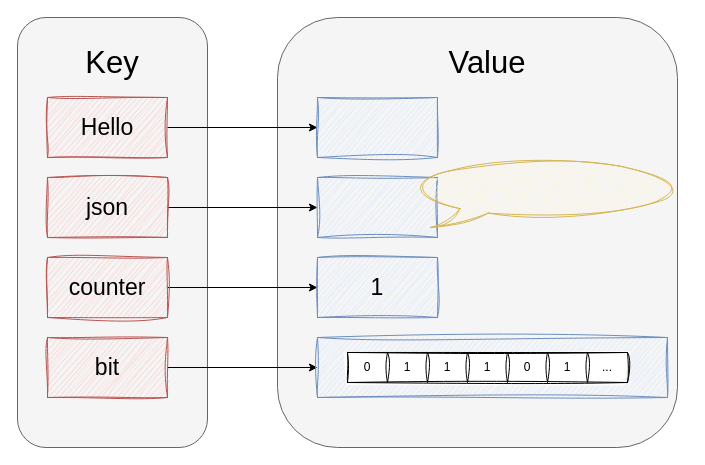
The diagram is 705 pixels wide and 465 high, and some of its shapes have lost their labels. The centre of each missing label's shape, as x and y in pixels:
World: the point at 377,127
{"name":"xx","age":22}: the point at 547,192
